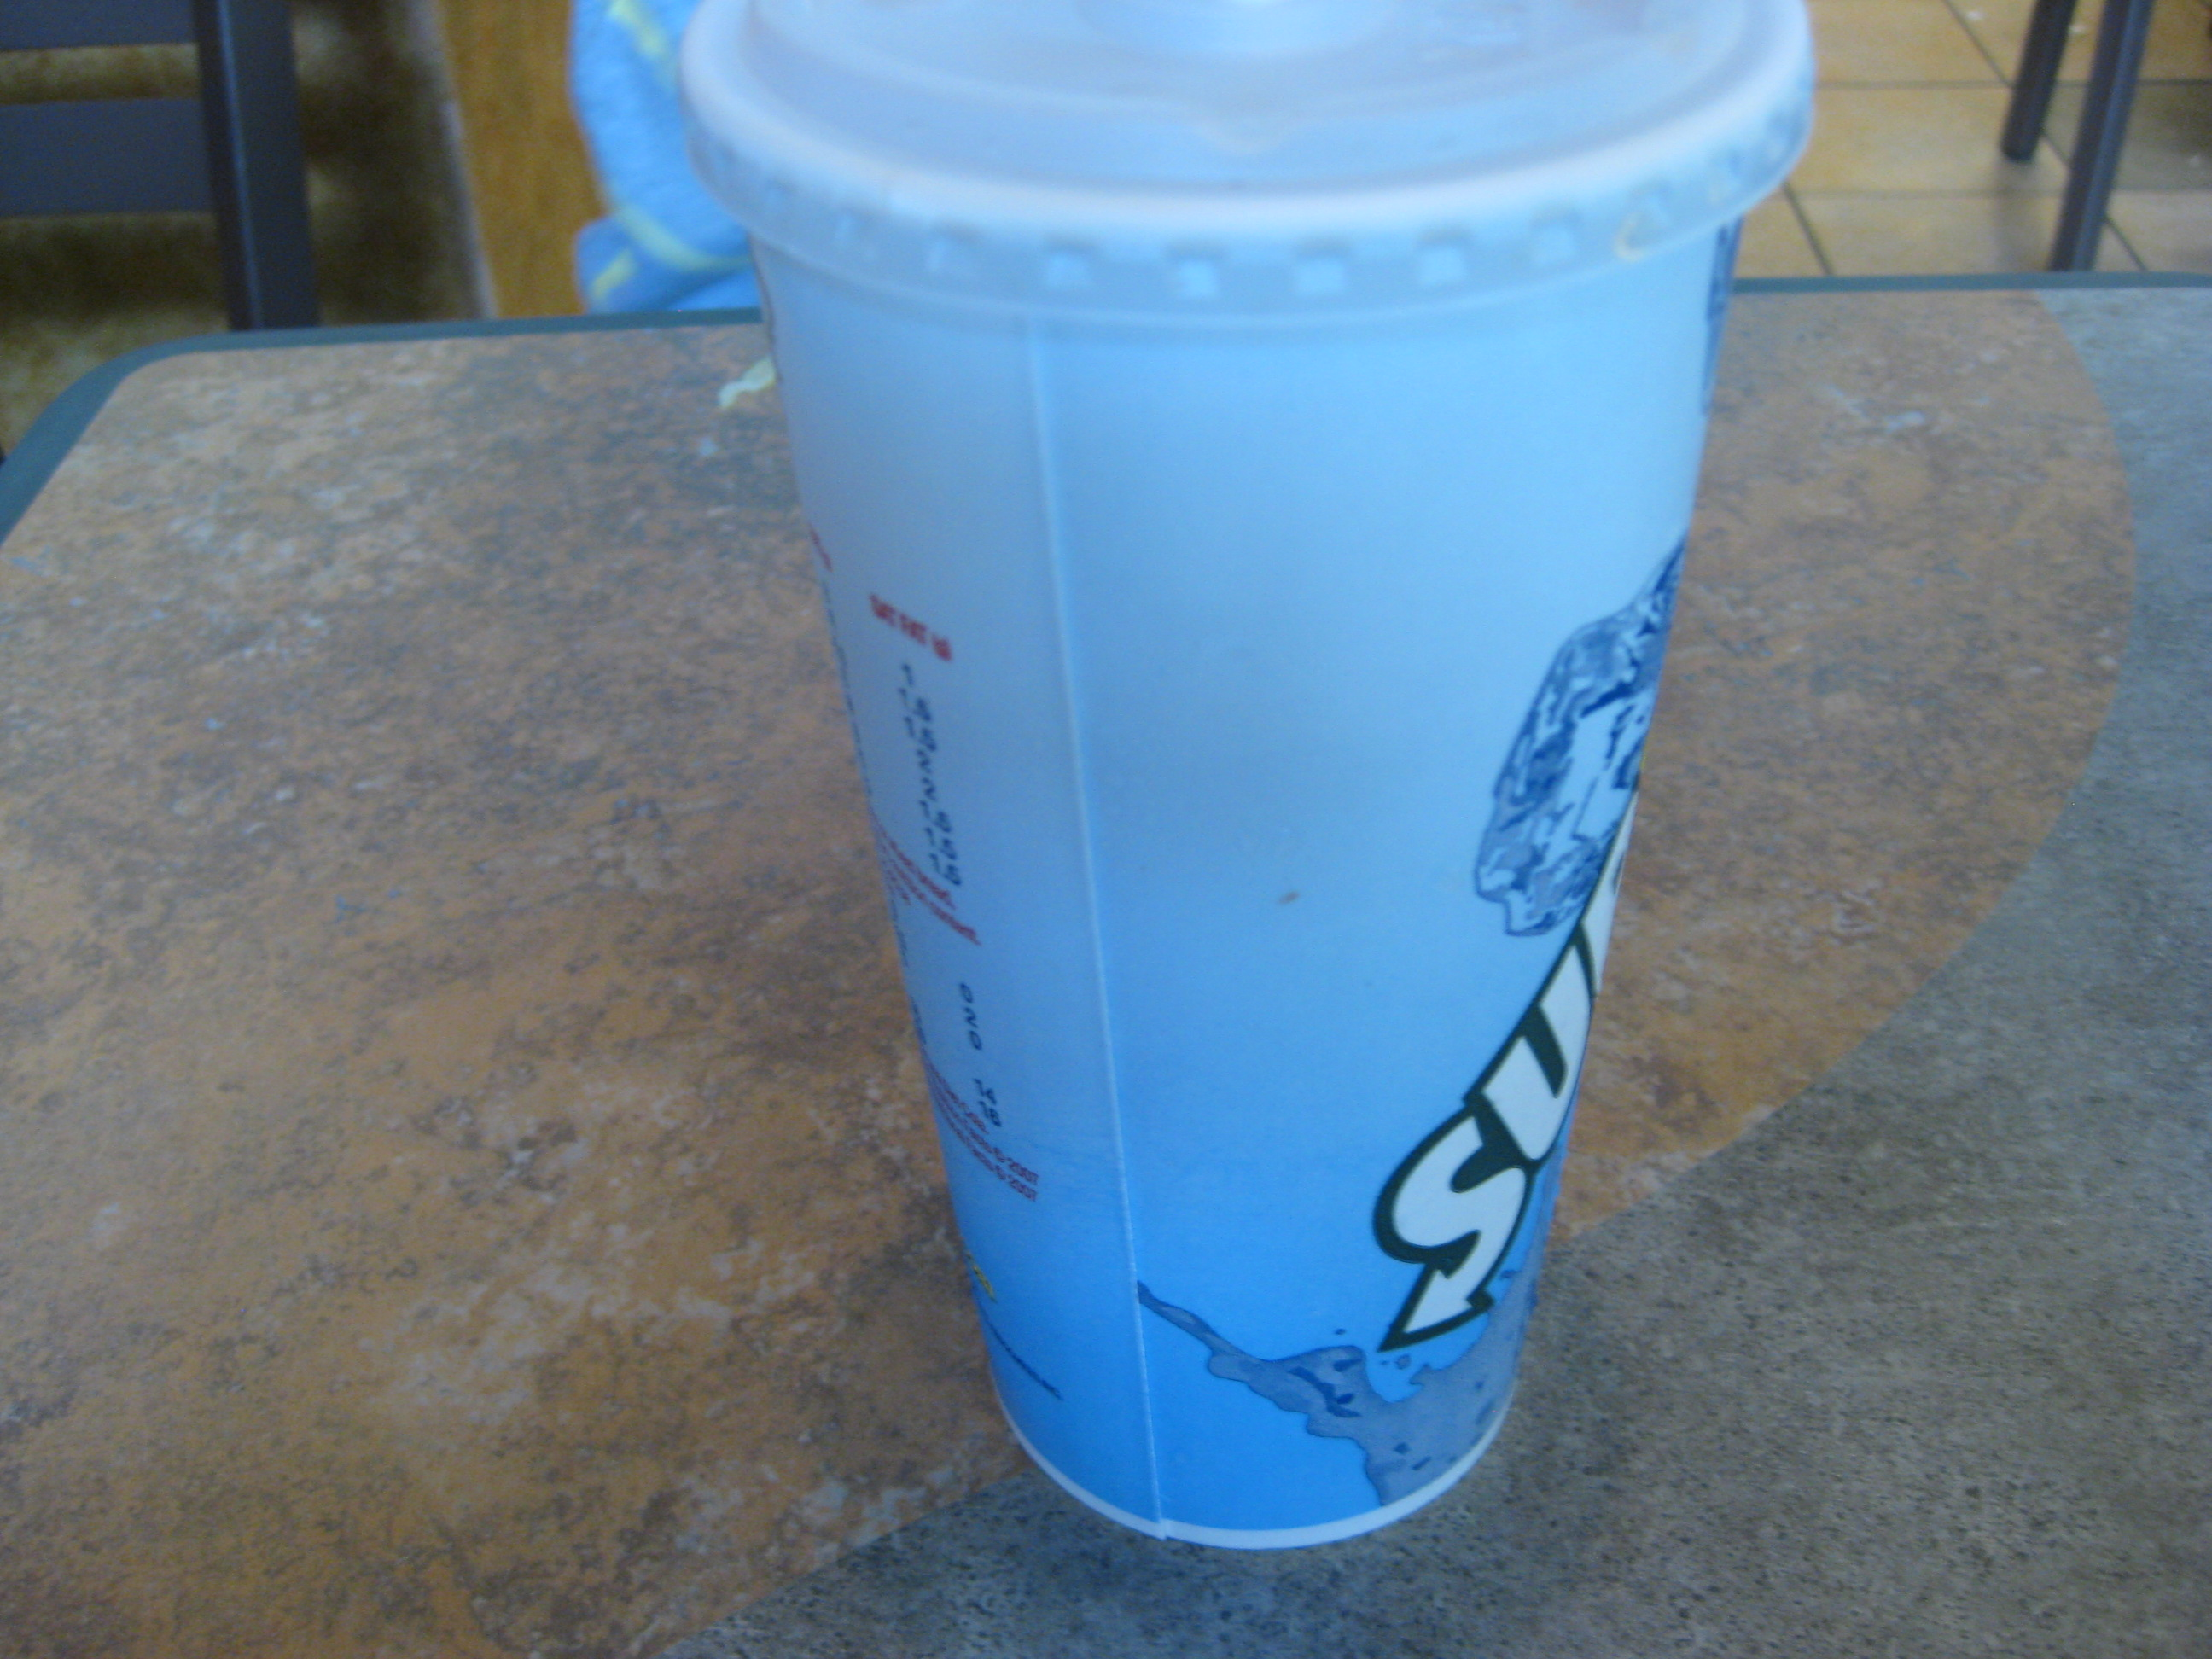drink: (663, 3, 1842, 1565)
